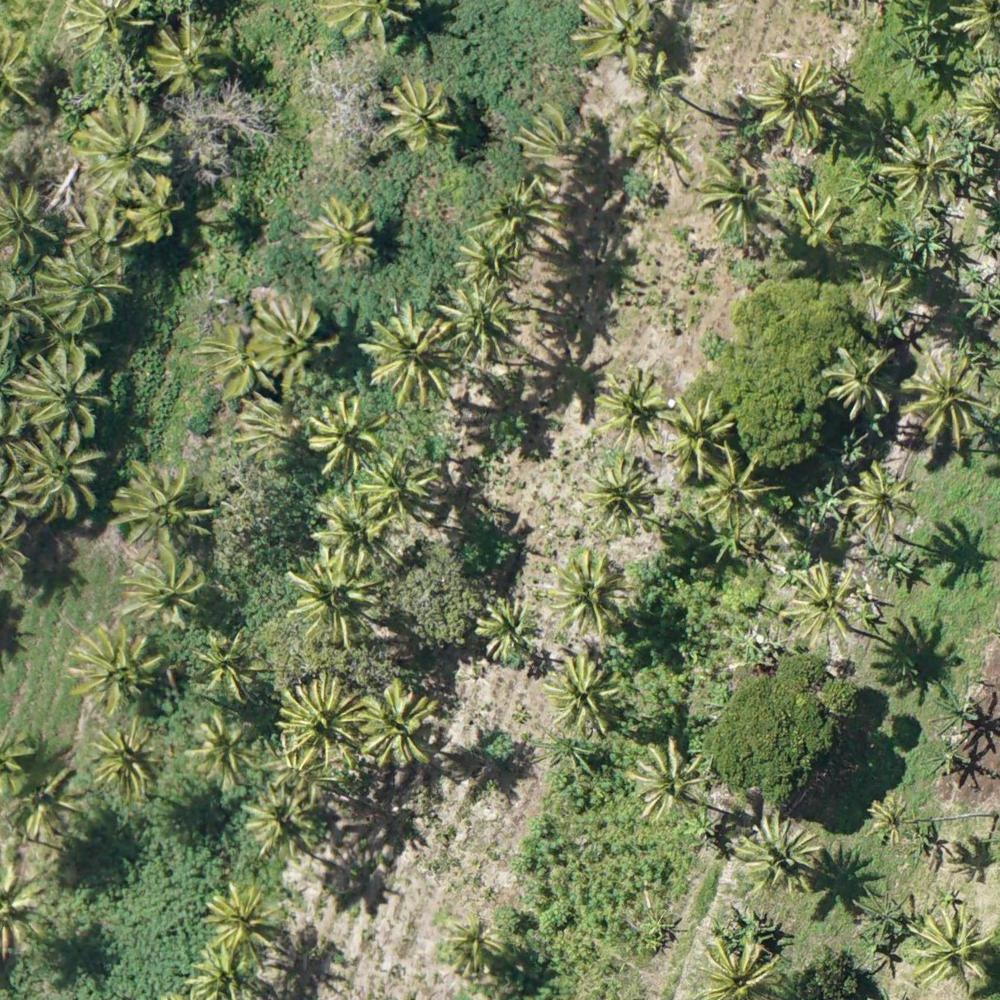Palm: (365, 306, 463, 406), (79, 99, 180, 196), (19, 345, 109, 441), (293, 555, 387, 645), (750, 54, 842, 145), (13, 431, 103, 524), (31, 247, 126, 332), (117, 462, 208, 550), (279, 672, 364, 766), (568, 1, 665, 83), (75, 623, 162, 712), (905, 360, 991, 449), (145, 16, 236, 99), (253, 294, 339, 380), (361, 678, 442, 767), (437, 281, 524, 363), (697, 156, 778, 242), (733, 816, 820, 894), (883, 127, 961, 212), (121, 548, 201, 630), (782, 562, 861, 644), (379, 73, 461, 152), (911, 909, 990, 989), (583, 458, 664, 536), (552, 554, 632, 632), (655, 396, 736, 473), (591, 368, 667, 449), (545, 657, 625, 733), (358, 447, 439, 522), (704, 449, 779, 529), (87, 717, 157, 802), (631, 741, 707, 819), (314, 494, 399, 563), (308, 396, 385, 468), (243, 786, 318, 859), (58, 1, 152, 56), (303, 197, 375, 268), (702, 935, 777, 1000), (205, 882, 274, 952), (851, 467, 917, 540), (476, 184, 552, 247), (454, 230, 525, 297), (187, 716, 254, 786), (828, 345, 893, 414), (475, 596, 540, 663), (629, 107, 692, 175), (196, 632, 259, 699), (120, 175, 180, 244), (187, 942, 258, 999), (783, 184, 845, 246), (447, 912, 507, 971), (863, 791, 915, 845)
